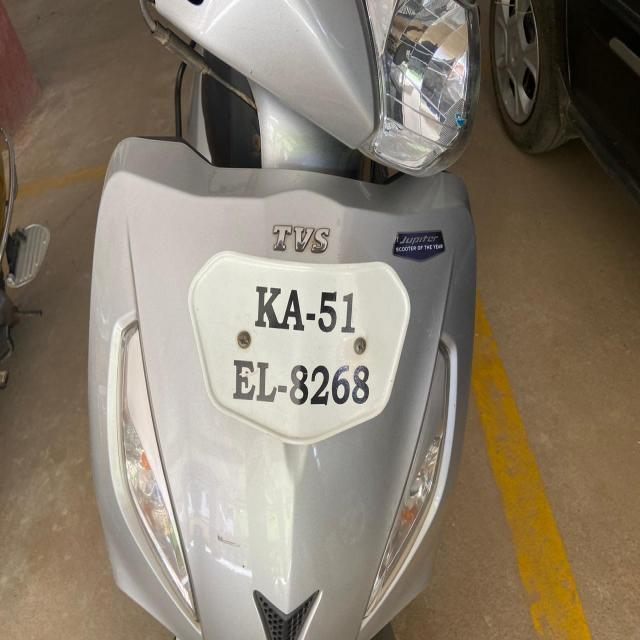1: (341, 286, 359, 338)
5: (316, 286, 343, 341)
6: (330, 360, 354, 408)
8: (288, 360, 311, 413), (350, 361, 373, 412)
A: (281, 284, 306, 337)
E: (228, 356, 262, 406)
K: (253, 283, 280, 334)
L: (256, 359, 278, 409)
